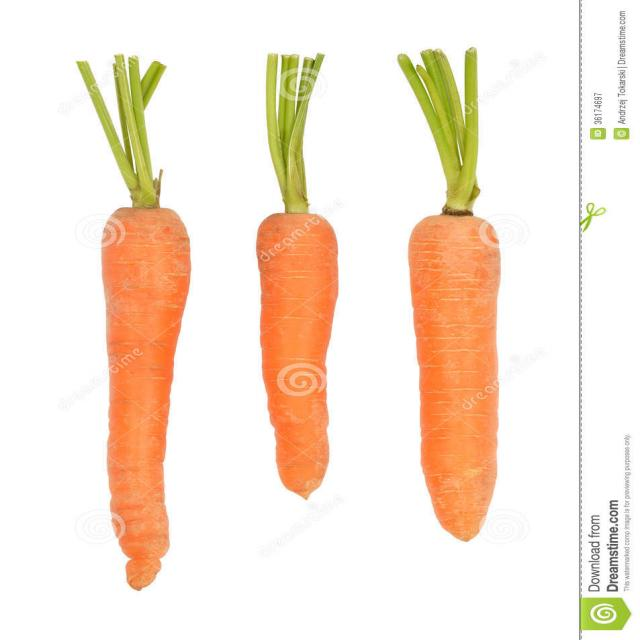Carrot: (383, 56, 534, 544), (78, 57, 202, 600), (244, 53, 365, 500)
